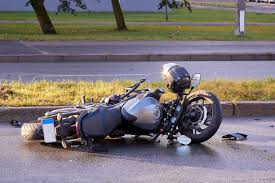Motorbike: (21, 63, 222, 148)
